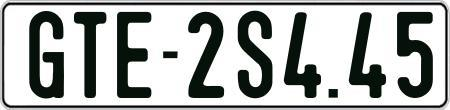2: (187, 11, 224, 103)
4: (283, 11, 324, 101), (346, 10, 386, 101)
5: (394, 9, 430, 98)
E: (114, 10, 148, 102)
G: (26, 8, 65, 101)
S: (235, 9, 270, 97)
T: (71, 9, 103, 95)
